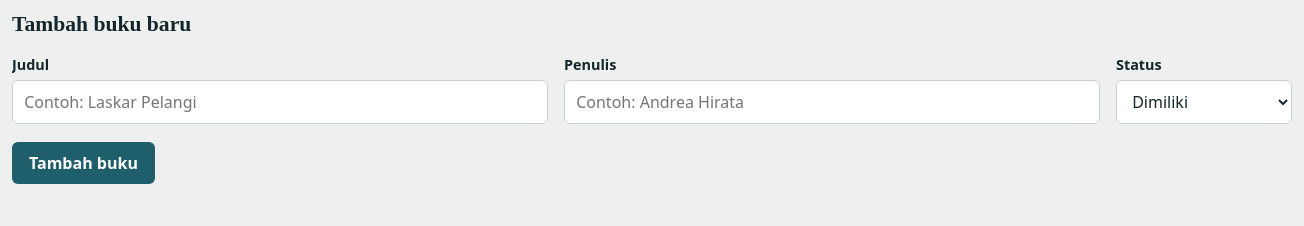
Test: BookForm › menampilkan error dan tidak submit saat kolom wajib kosong
What coordinates should you click on to do the following:
click the button "Tambah buku"
I would click on:
 (83, 162)
Its box is [12,142,155,184].
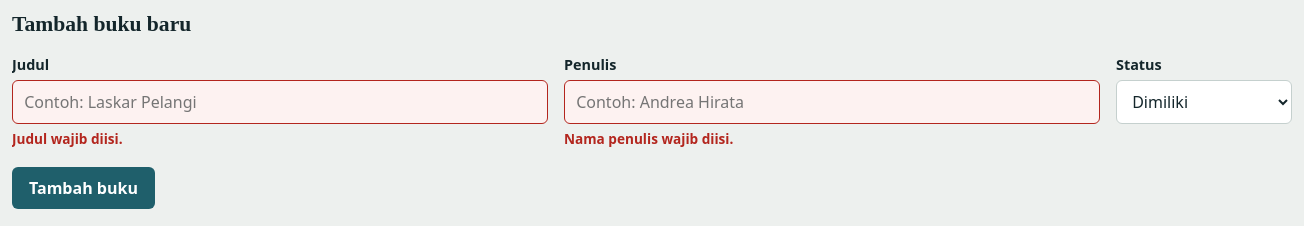
Now the text "Judul wajib diisi." is shown, box [12,129,123,148]
Now the text "Nama penulis wajib diisi." is shown, box [564,129,733,148]
